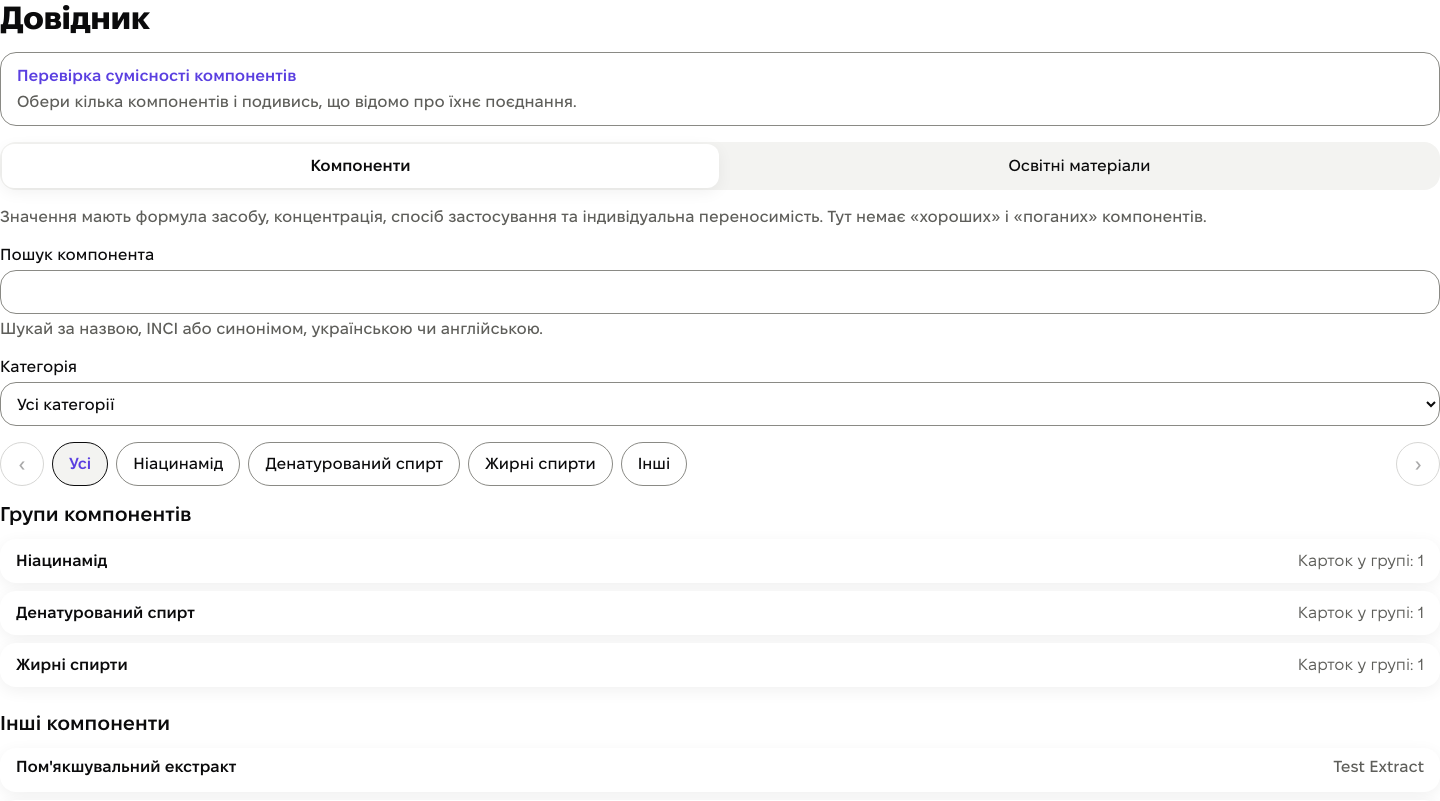
ReferencePage: search › the query "ніацинамід" gives the same one card
This screenshot has width=1440, height=801.
In the search field labelled "Пошук компонента": [720, 292] box top-left (0, 270), bottom-right (1439, 314), type "ніацинамід"
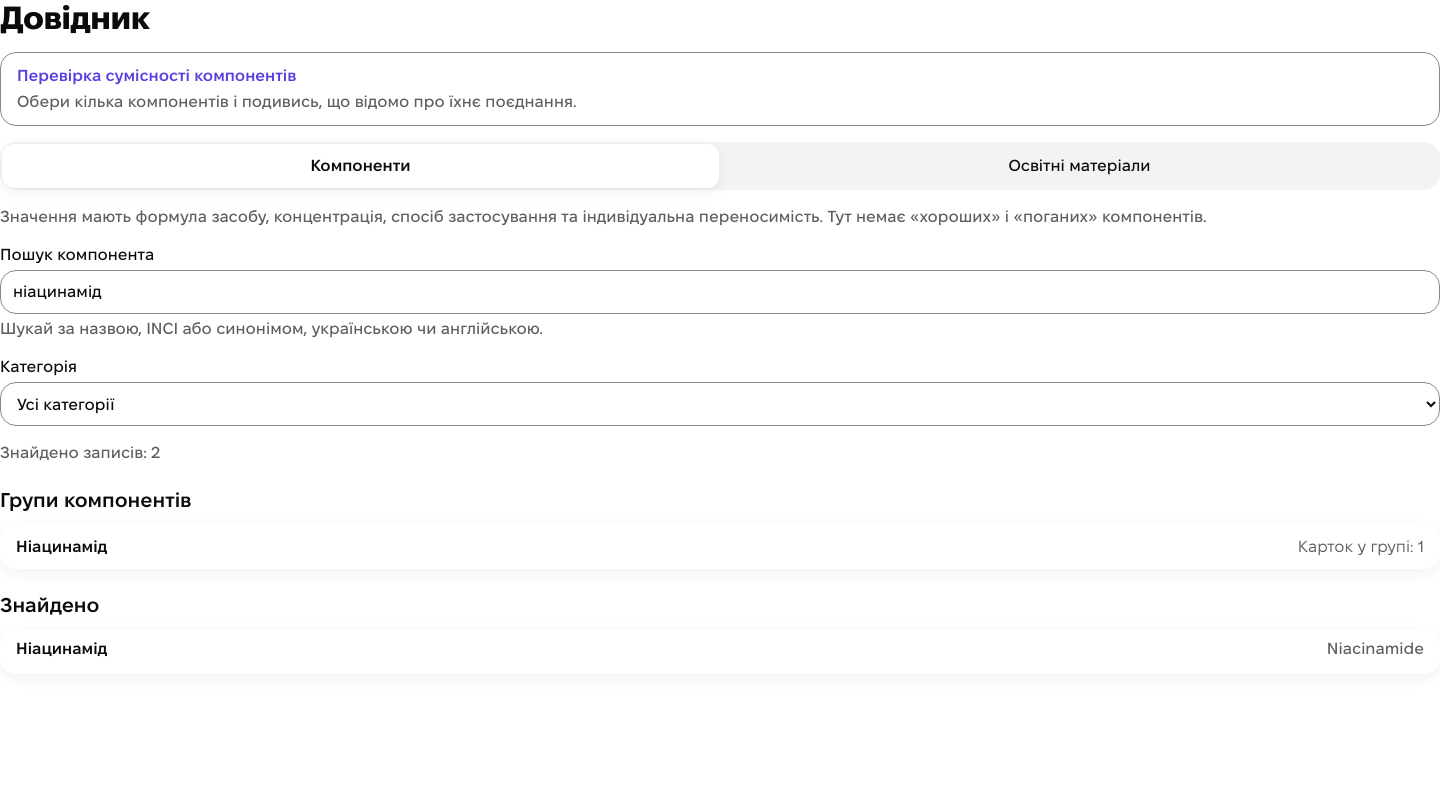
expect the button shows "Ніацинамід": met
Click the button: [62, 648] box top-left (0, 630), bottom-right (1439, 674)
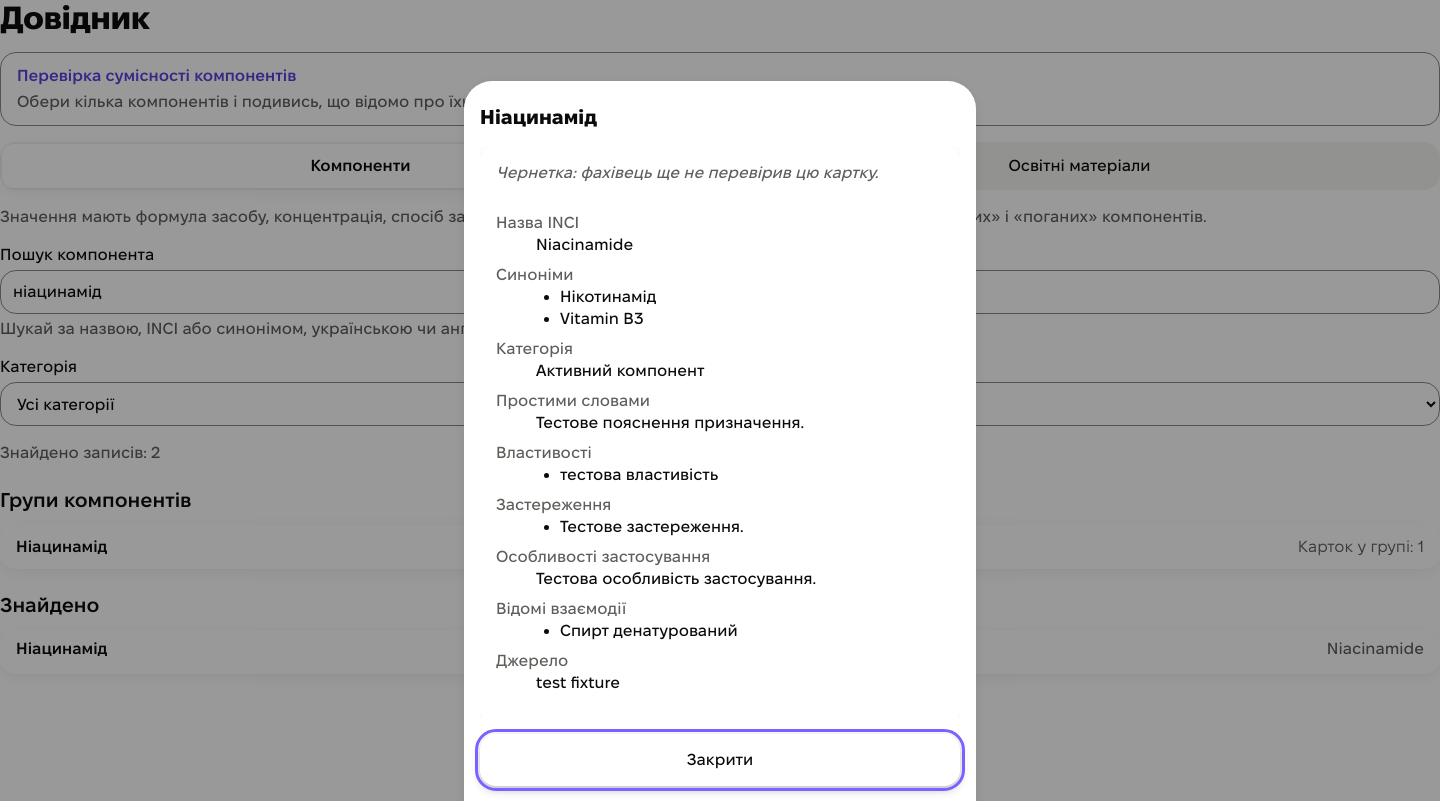
expect the heading "Ніацинамід" is shown: met, box top-left (480, 106), bottom-right (597, 128)
